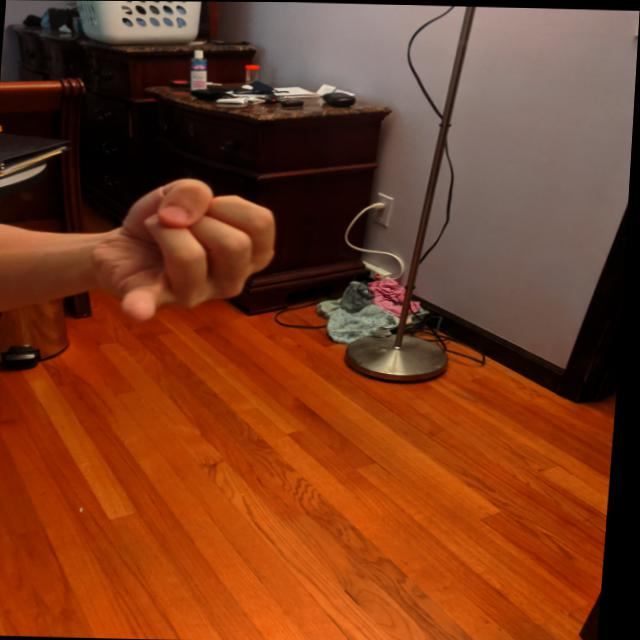J: (85, 172, 292, 328)
